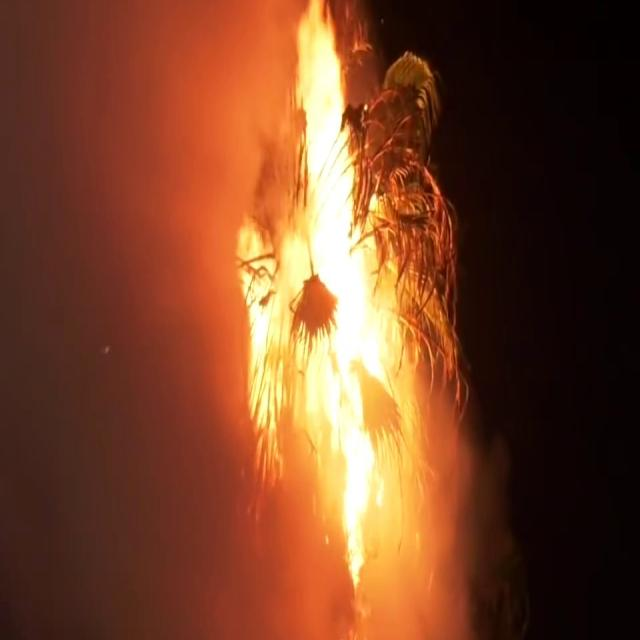fire: (240, 0, 416, 640)
smoke: (0, 0, 235, 640)
